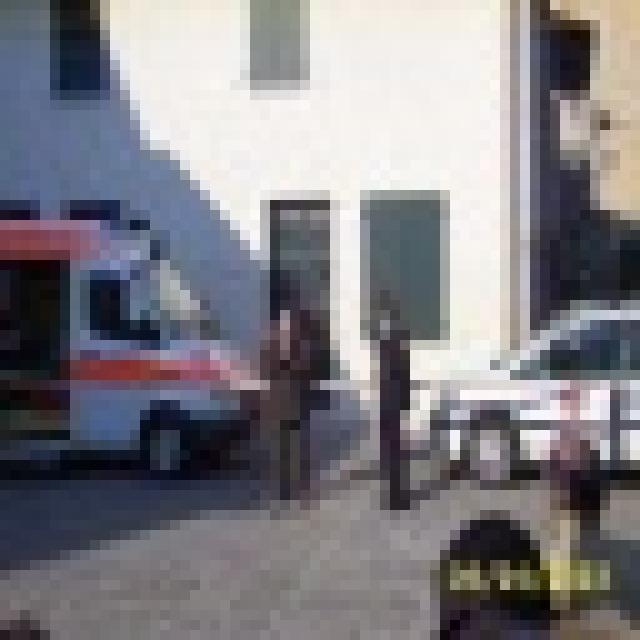Ambulance: (0, 190, 270, 470)
